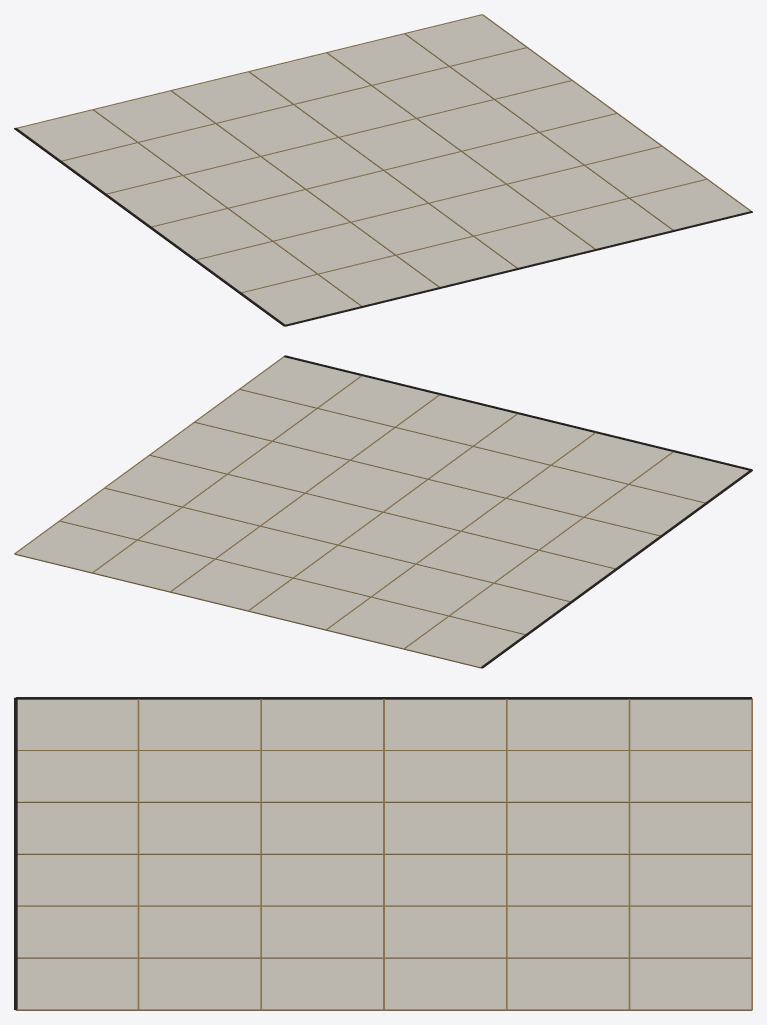
3 renders of one model, top to bottom at view 1: azimuth 30°, elevation 25°; view 2: azimuth 150°, elevation 25°; view 3: azimuth 270°, elevation 25°, orthographic. The views are drawn at different scales.
Parts seen in each view (by area): view 1: Body_mesh; view 2: Body_mesh; view 3: Body_mesh.
Part boxes in pixels (x1,y1,x2,y2): Body_mesh: (14,14,752,326); Body_mesh: (14,355,752,668); Body_mesh: (14,697,752,1010).
Size of the model in its own units: 6.02 by 0.018 by 6.02.
